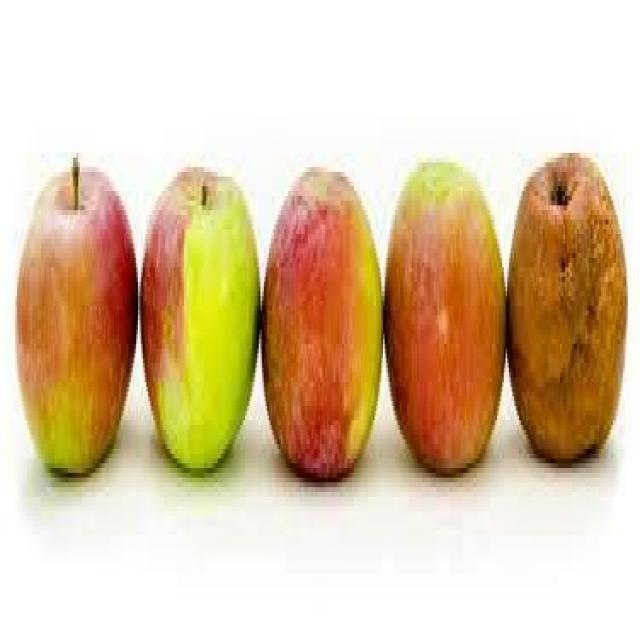Fresh Apple: (380, 165, 507, 472), (262, 173, 386, 482), (18, 173, 134, 482), (152, 174, 260, 474)
Rotten: (496, 161, 640, 463)
